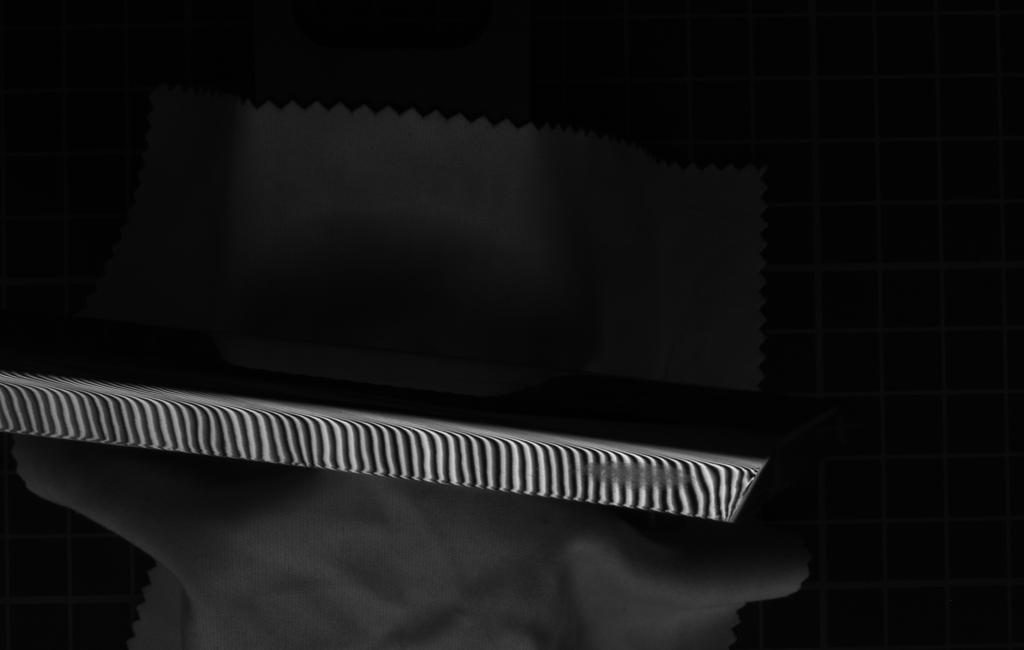Pitting: (568, 459, 716, 497)
